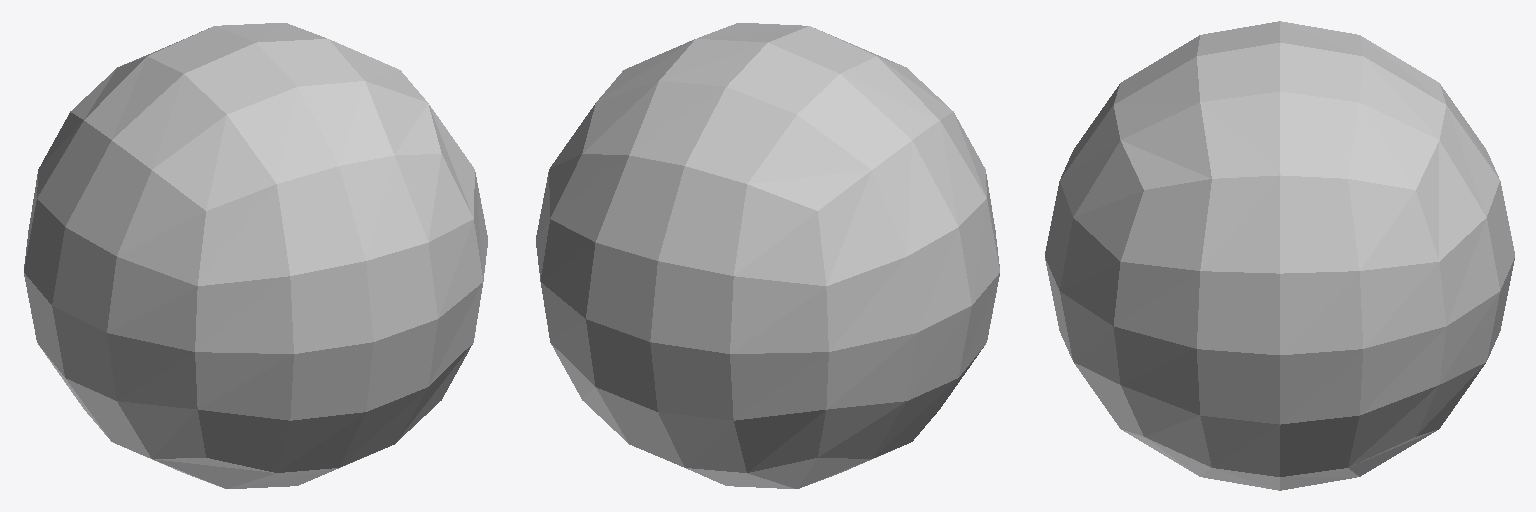
Rendered from Agua_1.obj.
3 views of the same model, side by side, from view 1: azimuth 30°, elevation 25°; view 2: azimuth 150°, elevation 25°; view 3: azimuth 270°, elevation 25° (orthographic).
Parts seen in each view (by area): view 1: Roundcube; view 2: Roundcube; view 3: Roundcube.
Boxes of the visible parts, x1,y1,x2,y2 form: Roundcube: [24, 23, 487, 488]; Roundcube: [536, 23, 999, 488]; Roundcube: [1045, 21, 1514, 490].
Bounding box in the file's own units: 4.2 × 4.2 × 4.2.